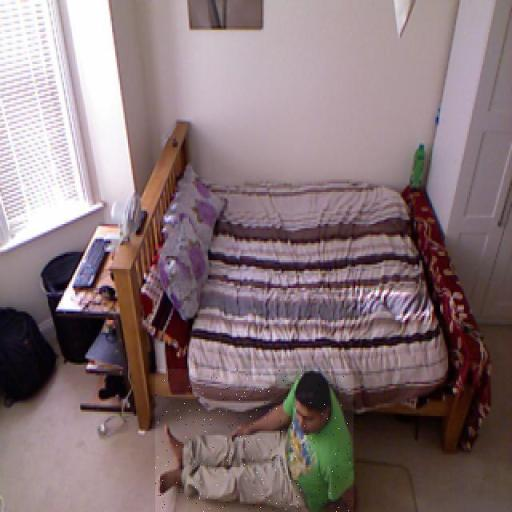Fall: (155, 369, 354, 512)
